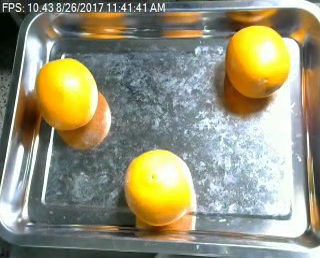Orange: (124, 148, 193, 226), (225, 23, 291, 99), (34, 58, 99, 131)
